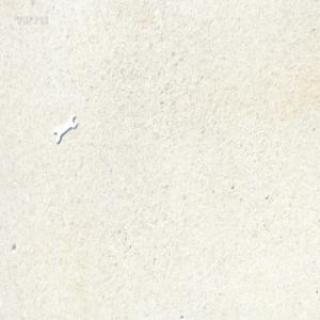Wrenchtrack_idkeyframe: (51, 113, 76, 146)
